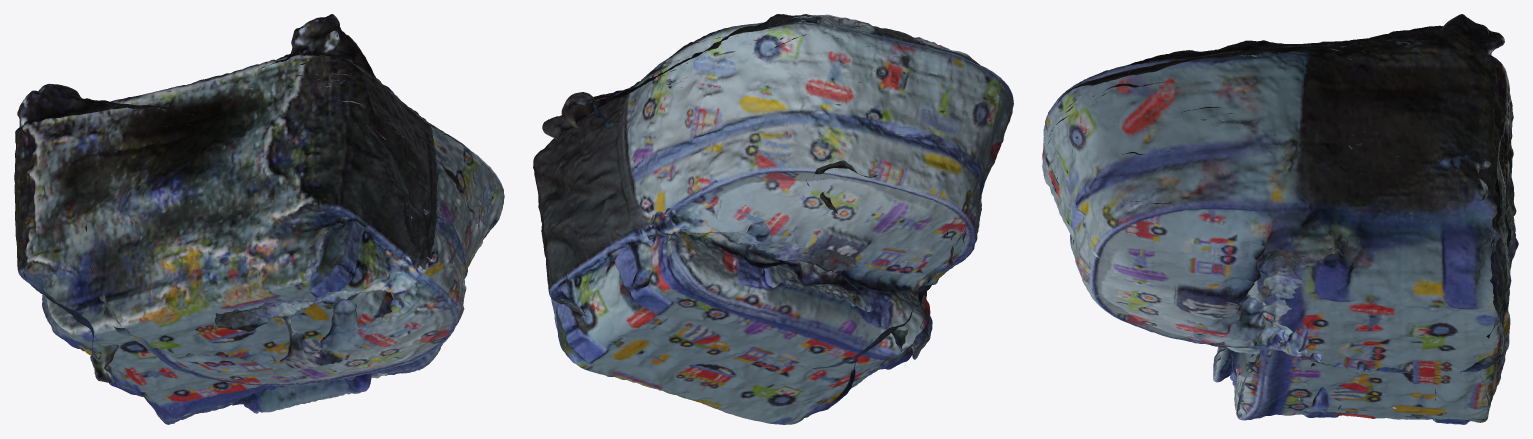
The model's file is backpack.glb.
3 views of the same model, side by side, from view 1: azimuth 30°, elevation 25°; view 2: azimuth 150°, elevation 25°; view 3: azimuth 270°, elevation 25° (orthographic). The views are drawn at different scales.
Size of the model in its own units: 0.9035 by 0.6672 by 0.9998.
